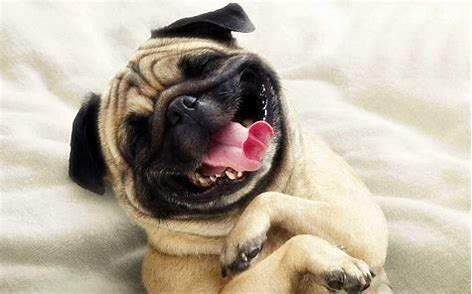dog: (82, 14, 389, 292)
